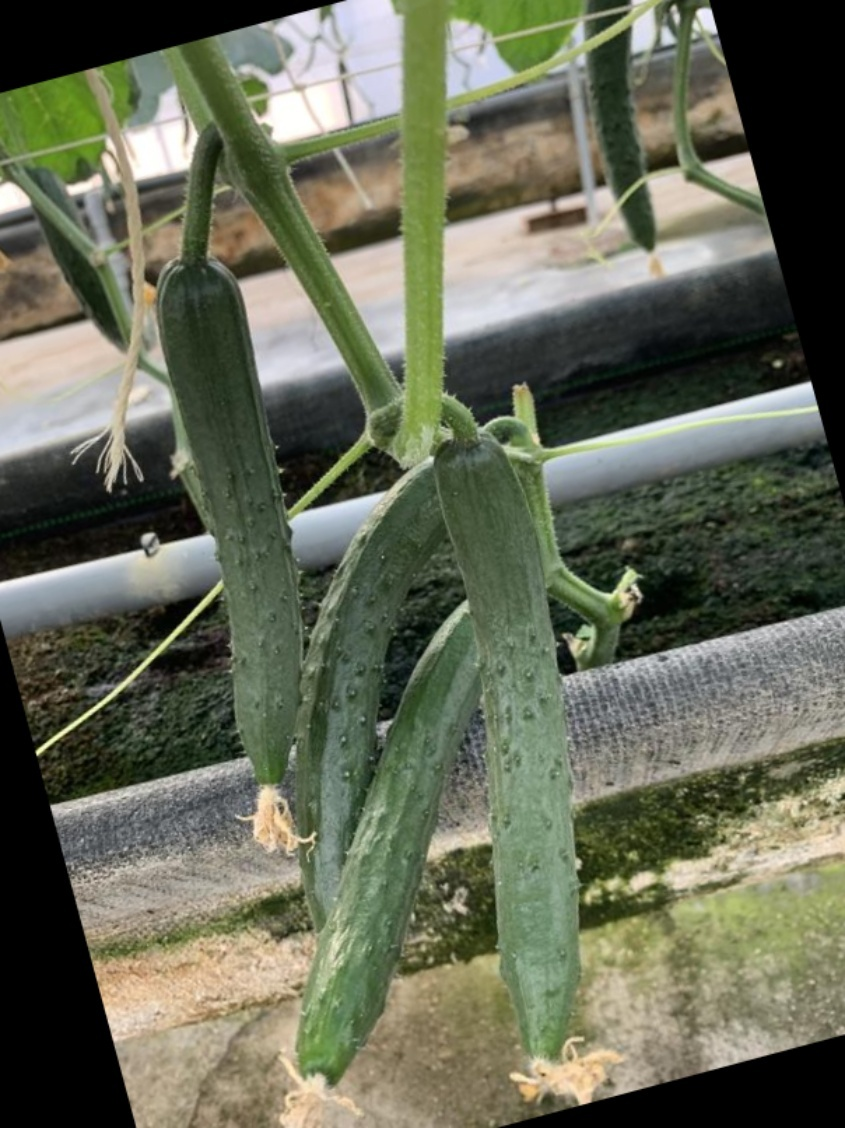mature: (301, 443, 439, 922)
